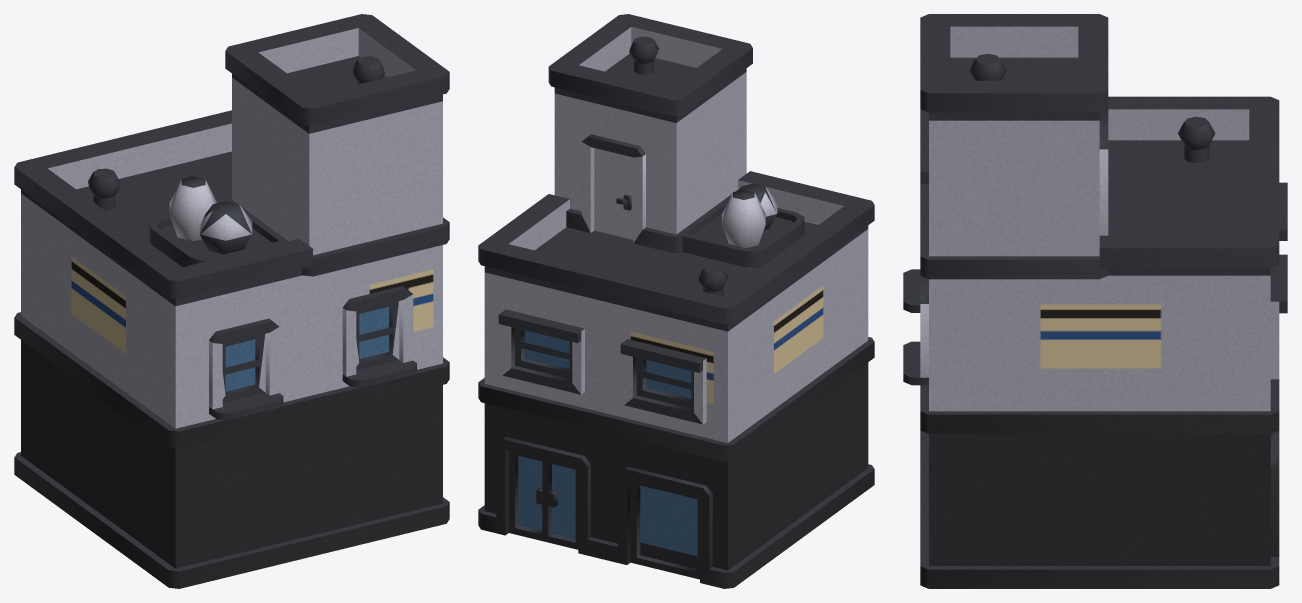
Rendered from building-d-white.glb.
3 renders of one model, left to right at view 1: azimuth 30°, elevation 25°; view 2: azimuth 150°, elevation 25°; view 3: azimuth 270°, elevation 25°, orthographic. The views are drawn at different scales.
Parts seen in each view (by area): view 1: building-d-white; view 2: building-d-white; view 3: building-d-white.
Boxes of the visible parts, <box> form: building-d-white: <box>14,14,449,588</box>; building-d-white: <box>478,14,874,588</box>; building-d-white: <box>903,14,1287,588</box>.
Size of the model in its own units: 0.84 by 1.29 by 0.9.
Materials: 1 (1 with a texture image).
